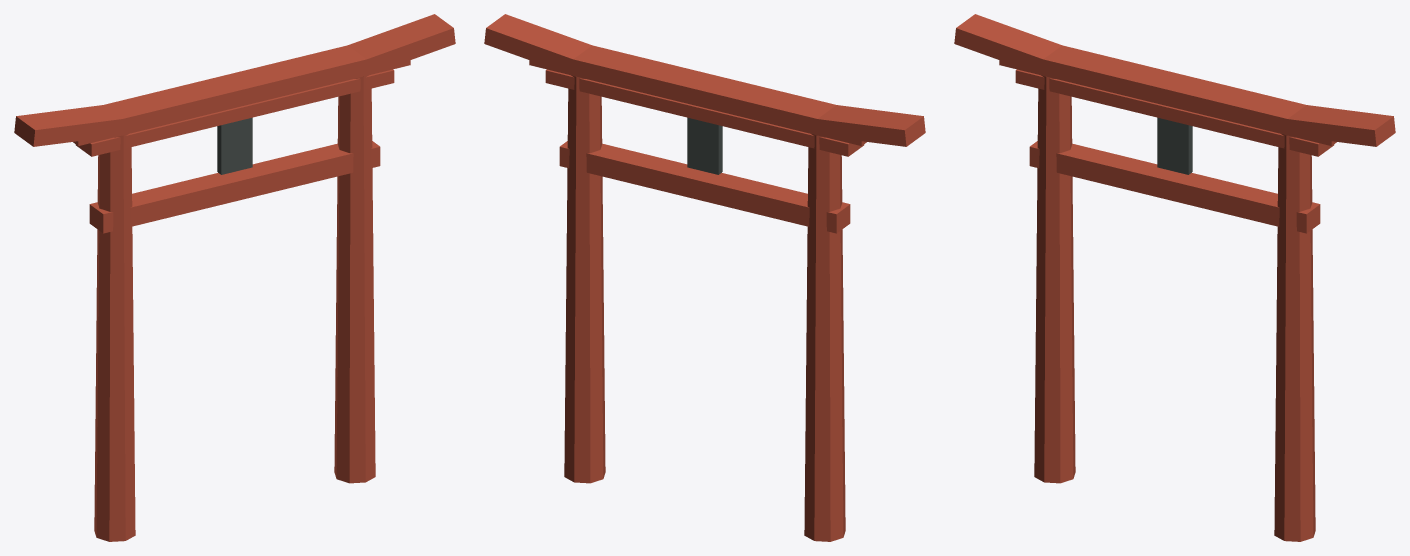
File: Torii.glb
The picture shows the model from 3 angles, left to right: view 1: azimuth 30°, elevation 25°; view 2: azimuth 150°, elevation 25°; view 3: azimuth 330°, elevation 25°; orthographic projection.
Parts seen in each view (by area): view 1: PillarL, PillarR, Kasagi, Nuki, Shimaki, KasagiTipL, KasagiTipR, Gaku; view 2: PillarL, PillarR, Kasagi, Nuki, Shimaki, KasagiTipR, KasagiTipL, Gaku; view 3: PillarR, PillarL, Kasagi, Nuki, Shimaki, KasagiTipL, KasagiTipR, Gaku.
Part boxes in pixels (x1,y1,x2,y2): PillarL: (94, 134, 135, 541); PillarR: (334, 75, 375, 483); Kasagi: (73, 45, 410, 145); Nuki: (89, 141, 380, 233); Shimaki: (75, 69, 394, 156); KasagiTipL: (14, 105, 126, 146); KasagiTipR: (348, 14, 455, 76); Gaku: (217, 117, 252, 174); PillarL: (804, 134, 845, 541); PillarR: (564, 75, 605, 483); Kasagi: (529, 45, 866, 145); Nuki: (559, 141, 850, 233); Shimaki: (545, 69, 864, 156); KasagiTipR: (484, 14, 591, 76); KasagiTipL: (813, 105, 925, 146); Gaku: (687, 117, 722, 174); PillarR: (1274, 134, 1315, 541); PillarL: (1034, 75, 1075, 483); Kasagi: (999, 45, 1336, 145); Nuki: (1029, 141, 1320, 233); Shimaki: (1015, 69, 1334, 156); KasagiTipL: (954, 14, 1061, 76); KasagiTipR: (1283, 105, 1395, 146); Gaku: (1157, 117, 1192, 174).
Bounding box in the file's own units: 4.57 × 4.47 × 0.4.
